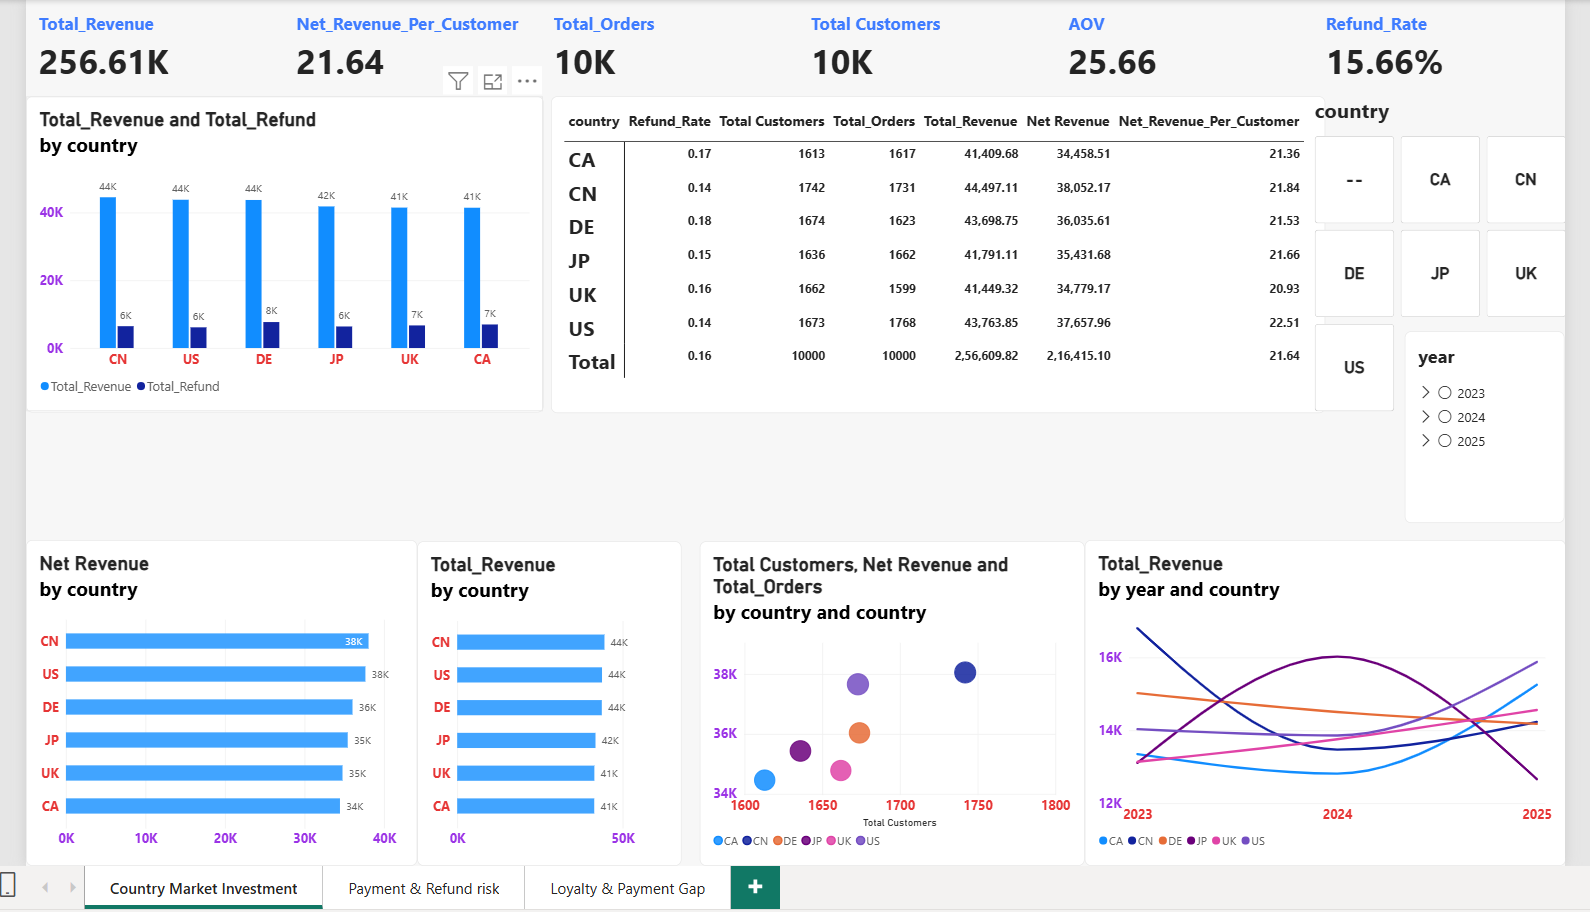

Layout of this report page (visuals, bound fields, positions):
{"tool":"powerbi","page":{"name":"Country Market Investment","canvas":[1920,1080],"ordinal":0},"visuals":[{"type":"cardVisual","fields":{"Data":["date.Total_Revenue","public orders.Net_Revenue_Per_Customer","public orders.Total_Orders","public orders.Total Customers","public orders.AOV","date.Refund_Rate"]},"box":[0,0,1920.4,119.4],"z":1},{"type":"barChart","fields":{"Category":["public customers.country"],"Y":["date.Total_Revenue"]},"box":[488.4,675,329.7,404.7],"z":2},{"type":"barChart","fields":{"Category":["public customers.country"],"Y":["public orders.Net Revenue"]},"box":[0,673.3,488.4,406.4],"z":3},{"type":"clusteredColumnChart","fields":{"Category":["public customers.country"],"Y":["date.Total_Revenue","date.Total_Refund"]},"box":[0,119.4,645.4,394.2],"z":4},{"type":"scatterChart","fields":{"Category":["public customers.country"],"Series":["public customers.country"],"Size":["public orders.Total_Orders"],"X":["public orders.Total Customers"],"Y":["public orders.Net Revenue"]},"box":[840.7,675,479.7,404.7],"z":5},{"type":"lineChart","fields":{"Category":["date.Date Hierarchy.year"],"Series":["public customers.country"],"Y":["date.Total_Revenue"]},"box":[1320.4,673.3,600,406.4],"z":6},{"type":"pivotTable","fields":{"Rows":["public customers.country"],"Values":["date.Refund_Rate","public orders.Total Customers","public orders.Total_Orders","date.Total_Revenue","public orders.Net Revenue","public orders.Net_Revenue_Per_Customer"]},"box":[654.5,119.4,965.4,395.2],"z":7},{"type":"advancedSlicerVisual","fields":{"Values":["public customers.country"]},"box":[1607.6,119.4,314,394.2],"z":8},{"type":"listSlicer","fields":{"Values":["date.Date Hierarchy.year","date.Date Hierarchy.quarter","date.Date Hierarchy.month","date.Date Hierarchy.day"]},"box":[1719.8,413.4,198.8,239],"z":9}]}

Visuals, with their boxes on the page's 1920x1080 design canvas (x1, y1, x2, y2). These are canvas units, not pixel positions in the 1590x912 screenshot, which may show the page scaled, cropped or inside an application window:
cardVisual - date.Total_Revenue x public orders.Net_Revenue_Per_Customer: (left=0, top=0, right=1920, bottom=119)
barChart - public customers.country x date.Total_Revenue: (left=488, top=675, right=818, bottom=1080)
barChart - public customers.country x public orders.Net Revenue: (left=0, top=673, right=488, bottom=1080)
clusteredColumnChart - public customers.country x date.Total_Revenue: (left=0, top=119, right=645, bottom=514)
scatterChart - public customers.country x public customers.country: (left=841, top=675, right=1320, bottom=1080)
lineChart - date.Date Hierarchy.year x public customers.country: (left=1320, top=673, right=1920, bottom=1080)
pivotTable - public customers.country x date.Refund_Rate: (left=654, top=119, right=1620, bottom=515)
advancedSlicerVisual - public customers.country: (left=1608, top=119, right=1922, bottom=514)
listSlicer - date.Date Hierarchy.year x date.Date Hierarchy.quarter: (left=1720, top=413, right=1919, bottom=652)
